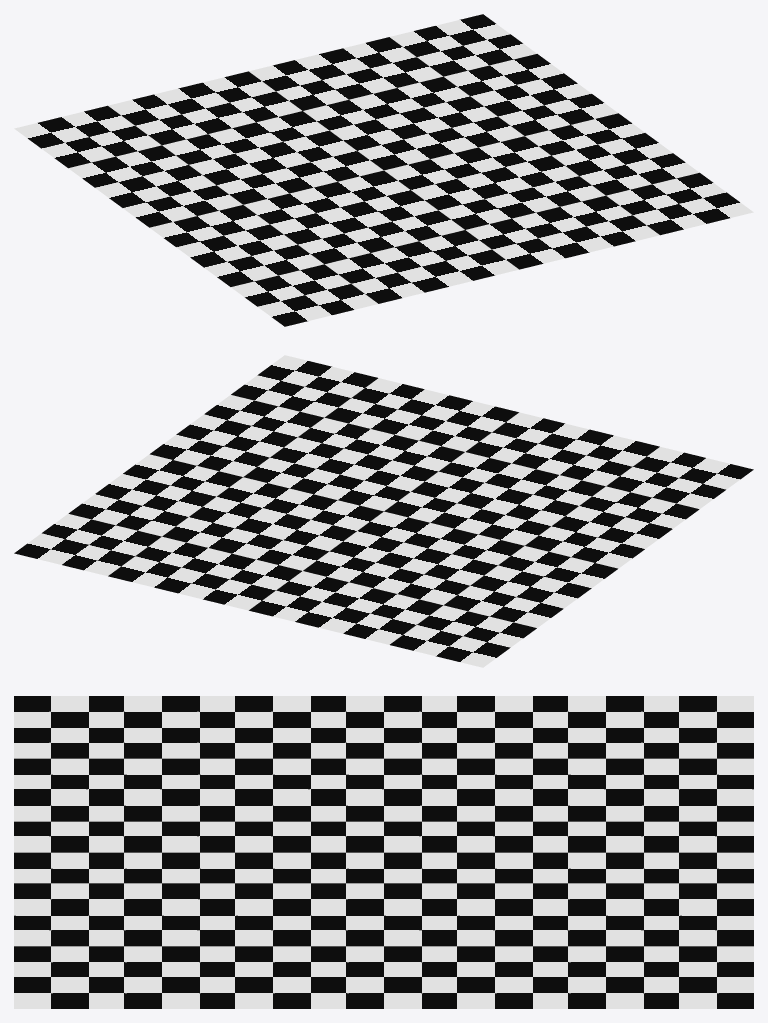
Rendered from ground.obj.
3 renders of one model, top to bottom at view 1: azimuth 30°, elevation 25°; view 2: azimuth 150°, elevation 25°; view 3: azimuth 270°, elevation 25°, orthographic. The views are drawn at different scales.
Parts seen in each view (by area): view 1: pPlane1; view 2: pPlane1; view 3: pPlane1.
Boxes of the visible parts, x1,y1,x2,y2 form: pPlane1: [14, 14, 753, 326]; pPlane1: [14, 355, 753, 667]; pPlane1: [14, 696, 753, 1008].
Size of the model in its own units: 25 by 0 by 25.
Materials: 1 (1 with a texture image).
